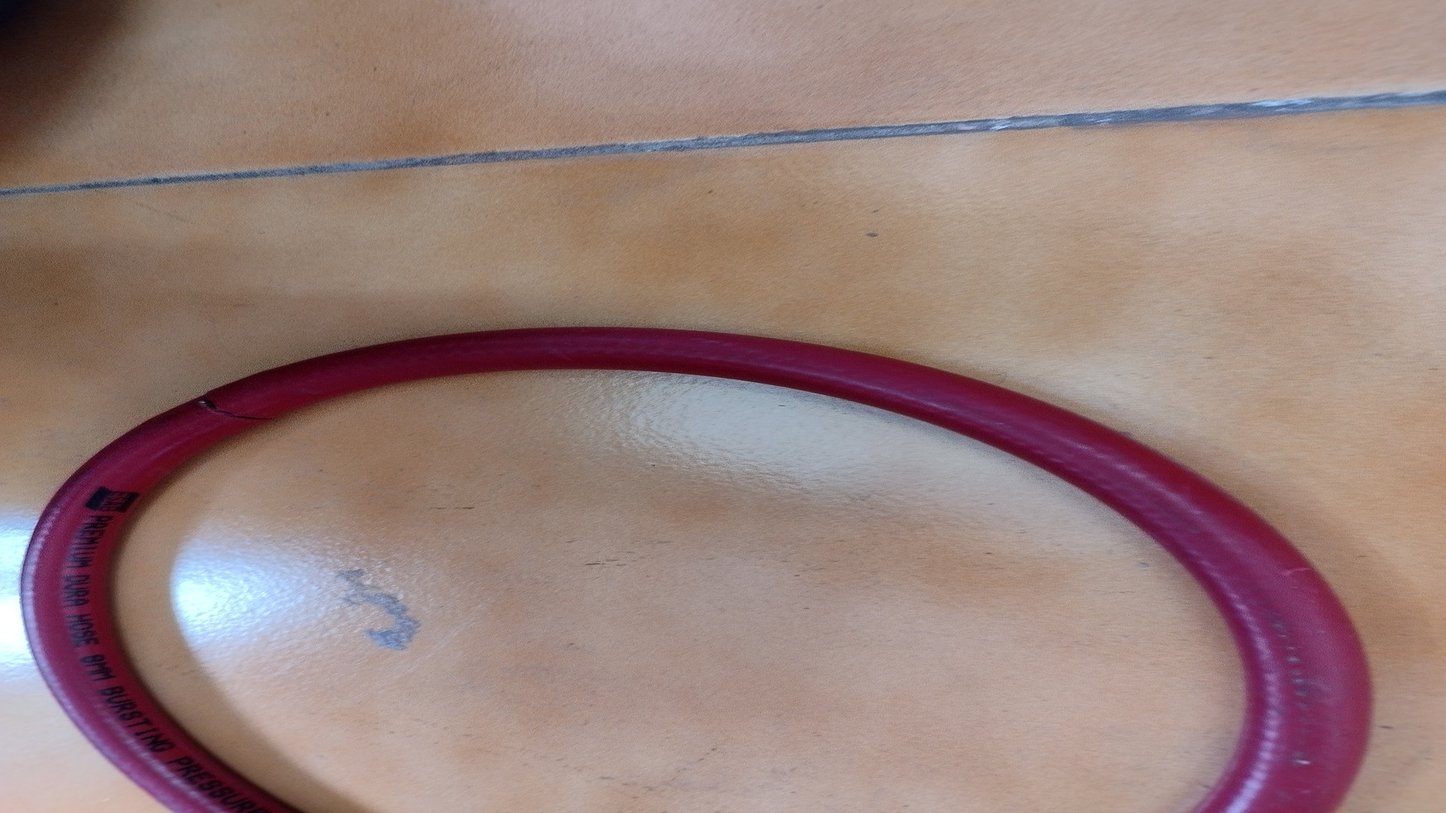Red ring: (24, 327, 1373, 813)
